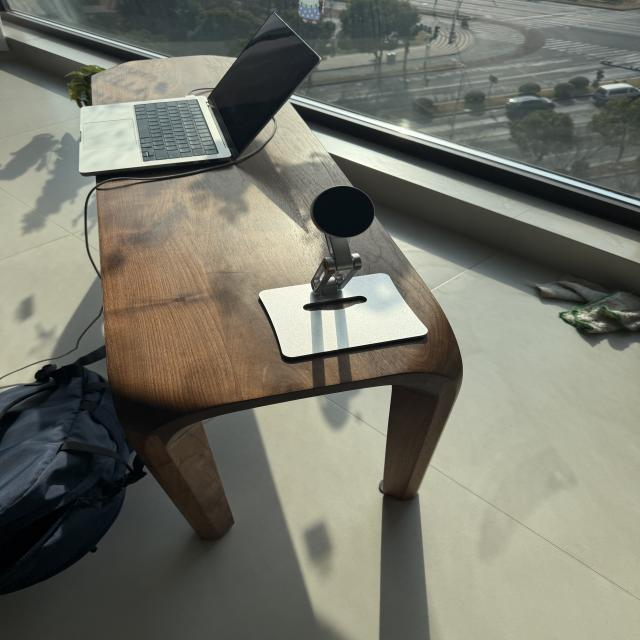phone holder: (242, 184, 434, 364)
